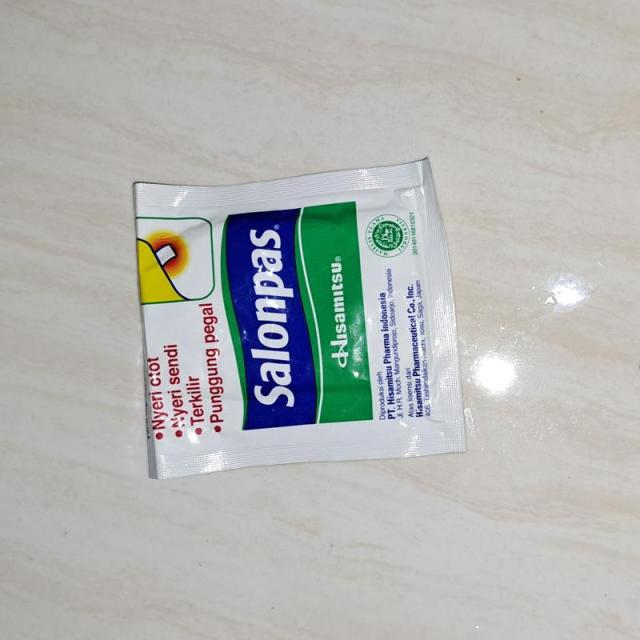Anorganik: (122, 151, 474, 499)
